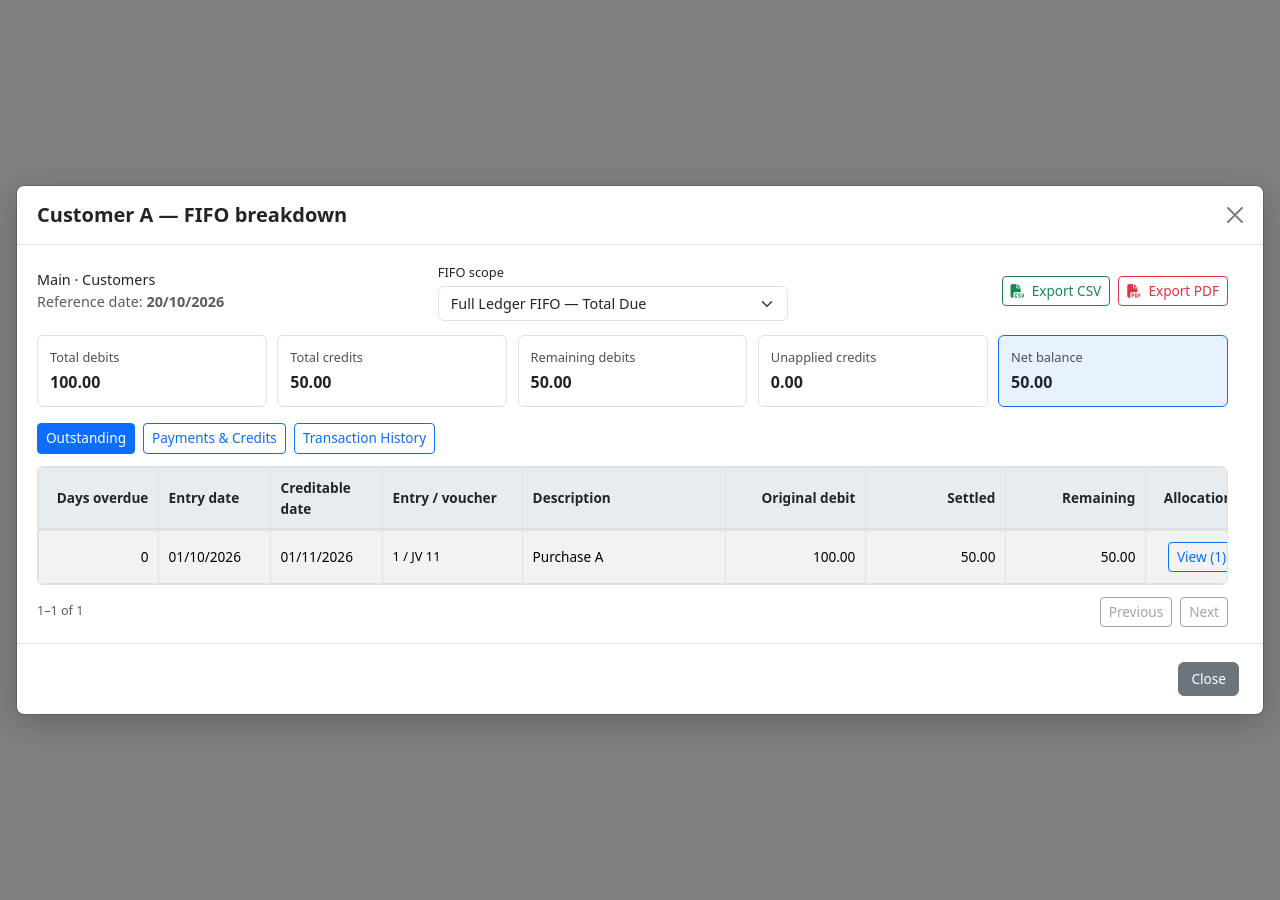
AgingFifoModal › loads lazily and requests the applied report scope; displays outstanding and allocated payments
The width and height of the screenshot is (1280, 900).
Expected: the text "Purchase A" is shown, [522,530,726,583]
Click the button with aria-label "View allocations for entry 1" at (1202, 557), box [1168,542,1235,572]
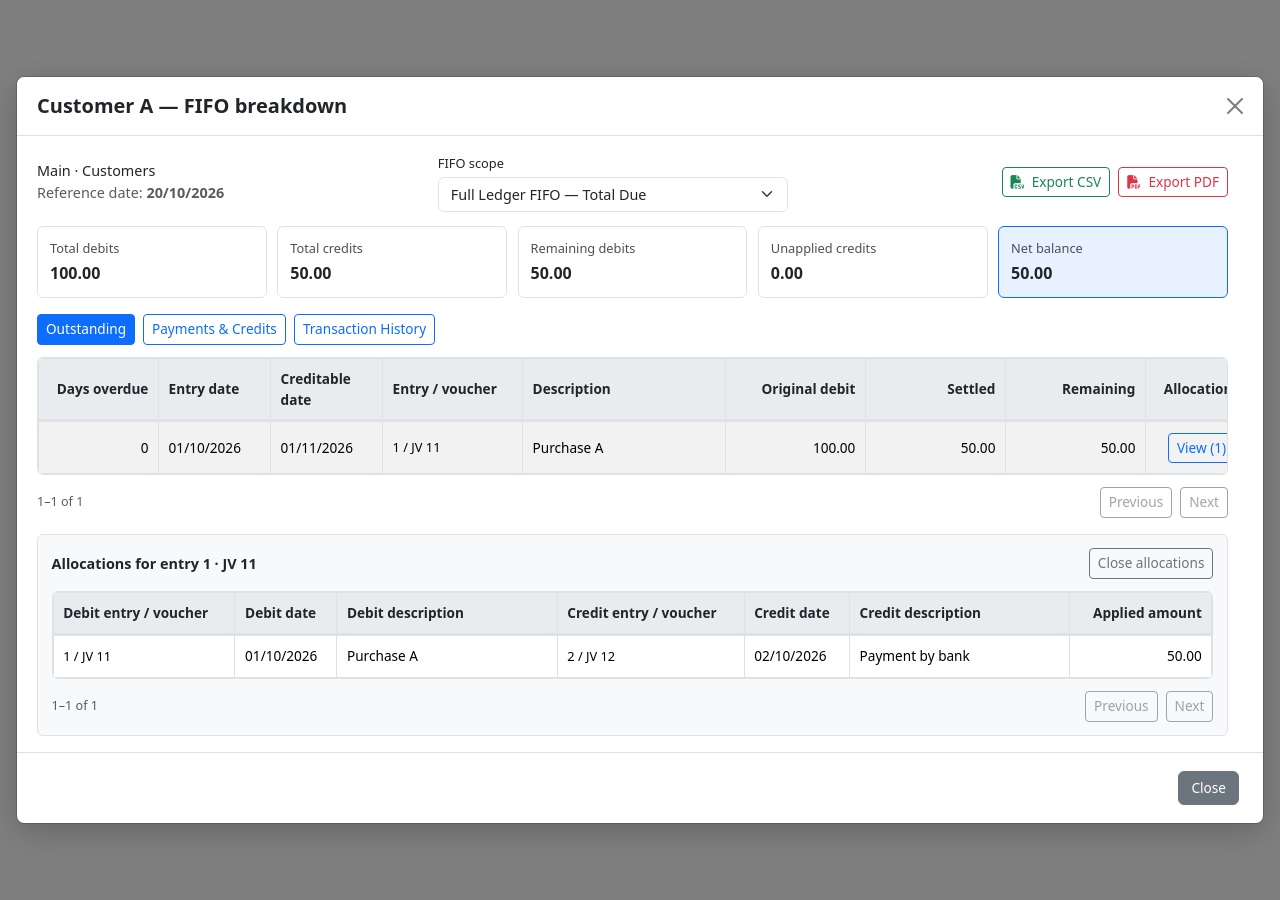
Expected: the text "Payment by bank" is shown, [850,635,1070,678]
